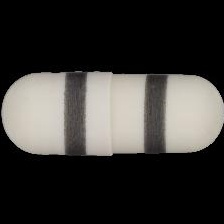54868-5113: (0, 0, 224, 224)
